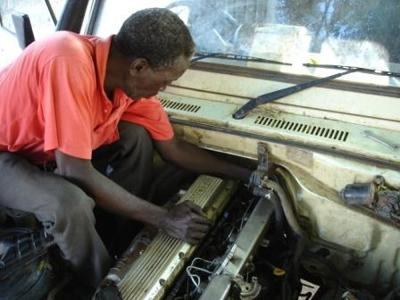person: (1, 7, 256, 296)
